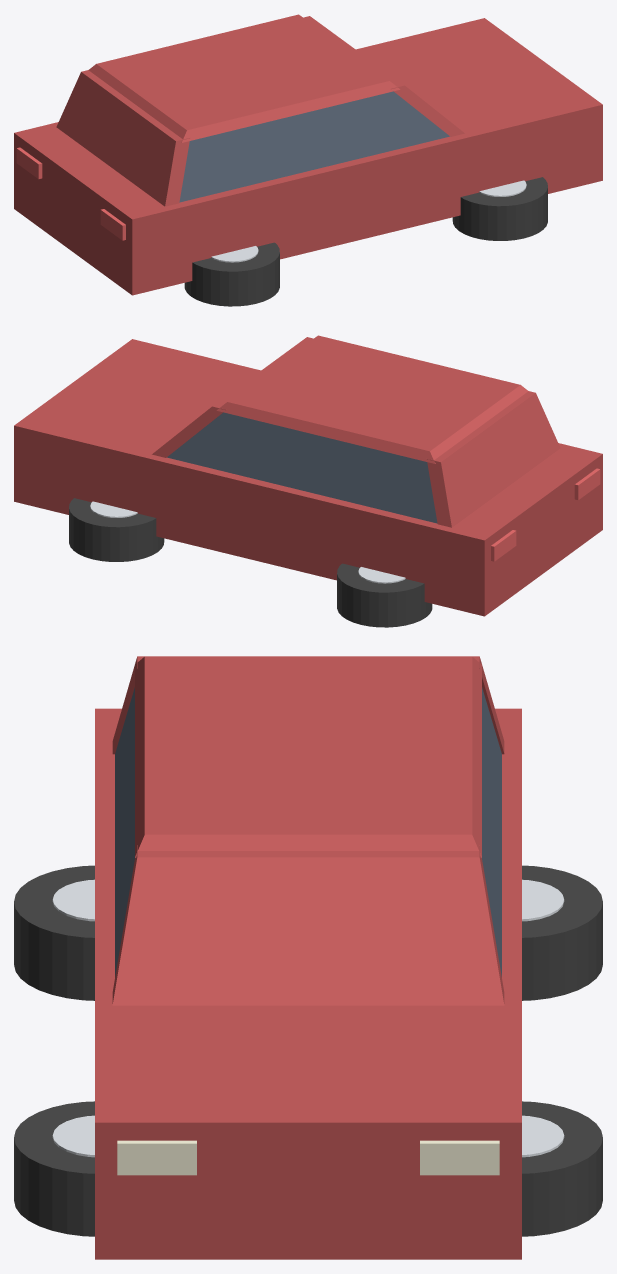
File: mazda_3.glb
3 views of the same model, one above another, from view 1: azimuth 30°, elevation 25°; view 2: azimuth 150°, elevation 25°; view 3: azimuth 270°, elevation 25° (orthographic). The views are drawn at different scales.
Visible parts, largest first — view 1: geometry_0, geometry_2, geometry_1, geometry_4, geometry_9, geometry_5, geometry_3, geometry_16, geometry_10, geometry_6, geometry_14; view 2: geometry_0, geometry_2, geometry_1, geometry_4, geometry_11, geometry_7, geometry_3, geometry_14, geometry_12, geometry_8, geometry_16; view 3: geometry_0, geometry_2, geometry_3, geometry_5, geometry_7, geometry_9, geometry_11, geometry_1, geometry_13, geometry_15, geometry_10, geometry_12 (+3 smaller).
Boxes of the visible parts, box(x1,y1,x2,y2) form: geometry_0: box(14, 18, 602, 295); geometry_2: box(88, 14, 400, 142); geometry_1: box(179, 91, 449, 202); geometry_4: box(56, 70, 189, 206); geometry_9: box(184, 242, 279, 306); geometry_5: box(452, 177, 547, 240); geometry_3: box(303, 16, 464, 136); geometry_16: box(16, 147, 42, 179); geometry_10: box(211, 246, 258, 262); geometry_6: box(479, 180, 526, 196); geometry_14: box(100, 209, 125, 240); geometry_0: box(14, 339, 602, 616); geometry_2: box(216, 335, 528, 463); geometry_1: box(167, 412, 437, 523); geometry_4: box(427, 391, 560, 527); geometry_11: box(337, 563, 432, 627); geometry_7: box(69, 498, 164, 561); geometry_3: box(152, 337, 313, 457); geometry_14: box(574, 468, 600, 500); geometry_12: box(358, 567, 405, 583); geometry_8: box(90, 501, 137, 517); geometry_16: box(491, 530, 516, 561); geometry_0: box(95, 708, 521, 1259); geometry_2: box(135, 656, 481, 857); geometry_3: box(112, 845, 504, 1005); geometry_5: box(14, 1101, 94, 1236); geometry_7: box(522, 1101, 602, 1236); geometry_9: box(14, 865, 94, 1000); geometry_11: box(522, 865, 602, 1000); geometry_1: box(115, 687, 501, 976); geometry_13: box(117, 1140, 196, 1175); geometry_15: box(420, 1140, 499, 1175); geometry_10: box(52, 879, 94, 921); geometry_12: box(522, 879, 564, 921).
Bounding box in the file's own units: 4.01 × 1.25 × 2.37.
